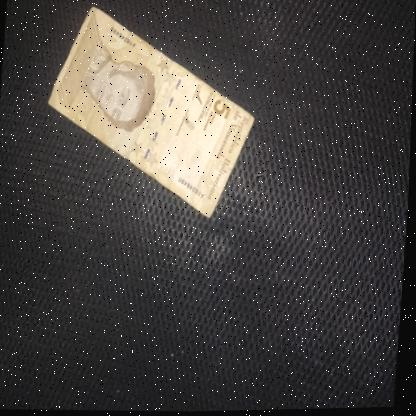five-front-vef: (39, 2, 262, 223)
